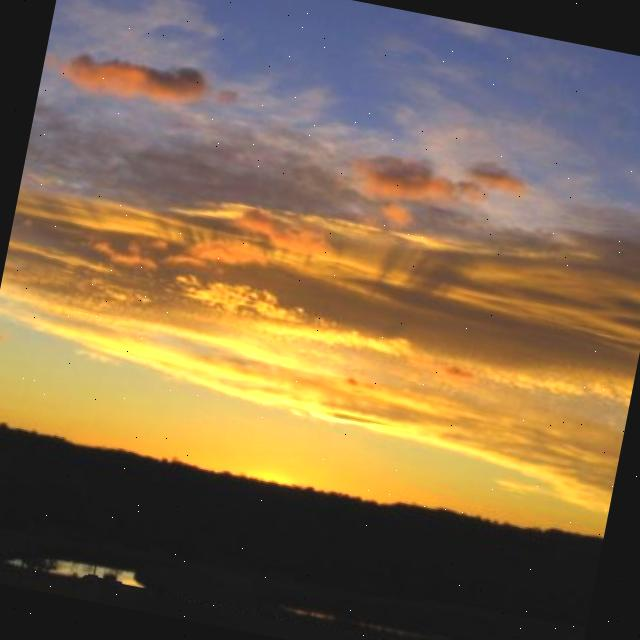As: (1, 1, 640, 515)
